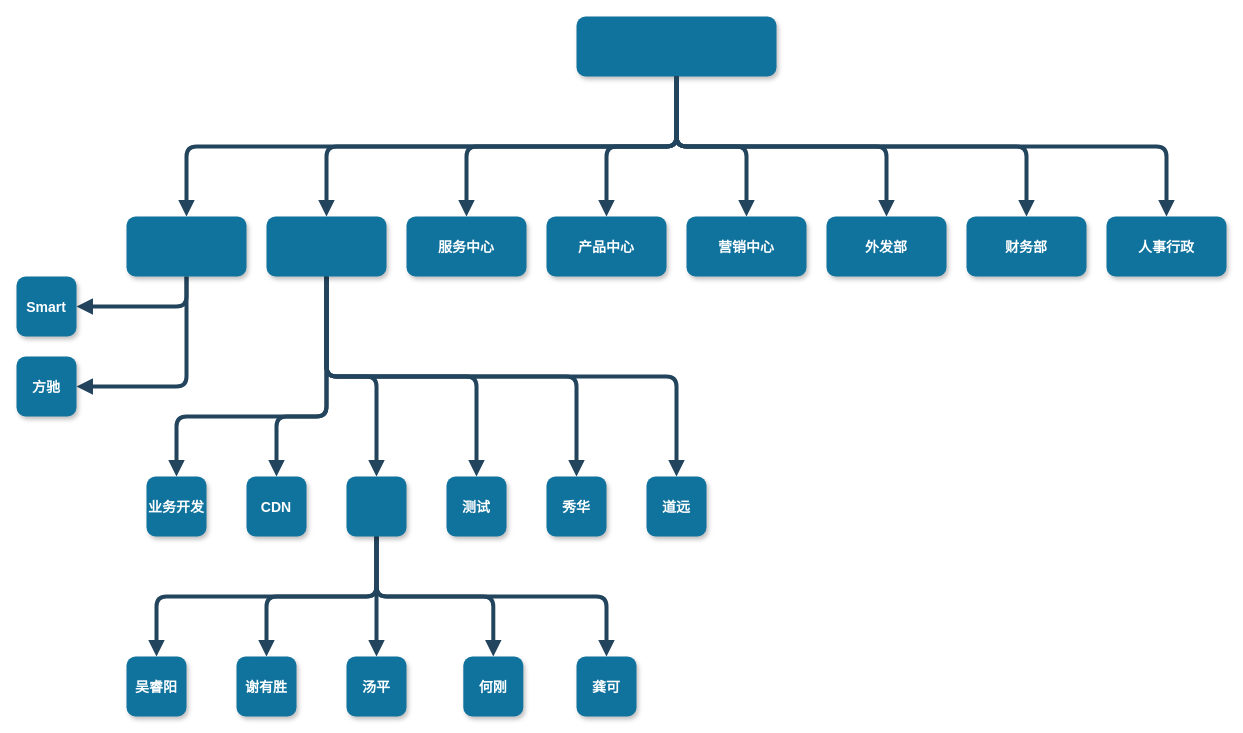
Some shapes in this 1243 by 733 pixel diagram are drawn without their labels. Here are the shapes that lost their labels. From the top down, the centre of each, then its label:
At (677,47): "小溪流".
At (187,247): "总经办".
At (327,247): "研发中心".
At (377,507): "创新".
